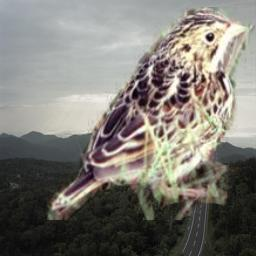Sparrow: (46, 7, 255, 220)
